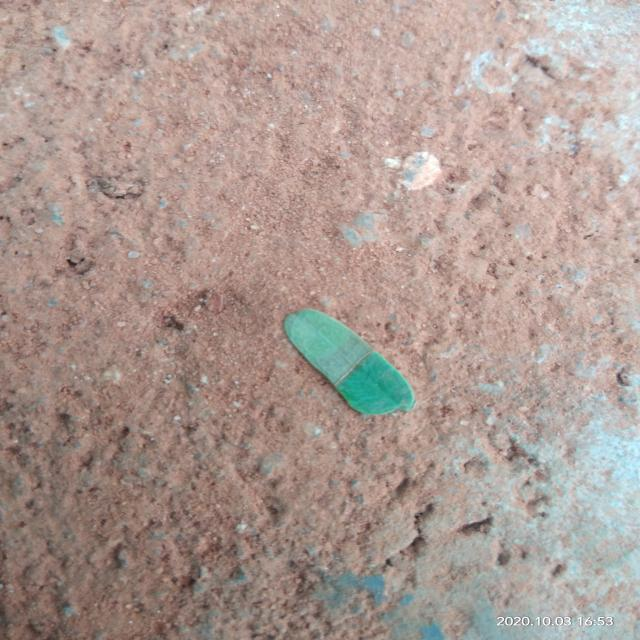tamarind: (285, 309, 415, 415)
